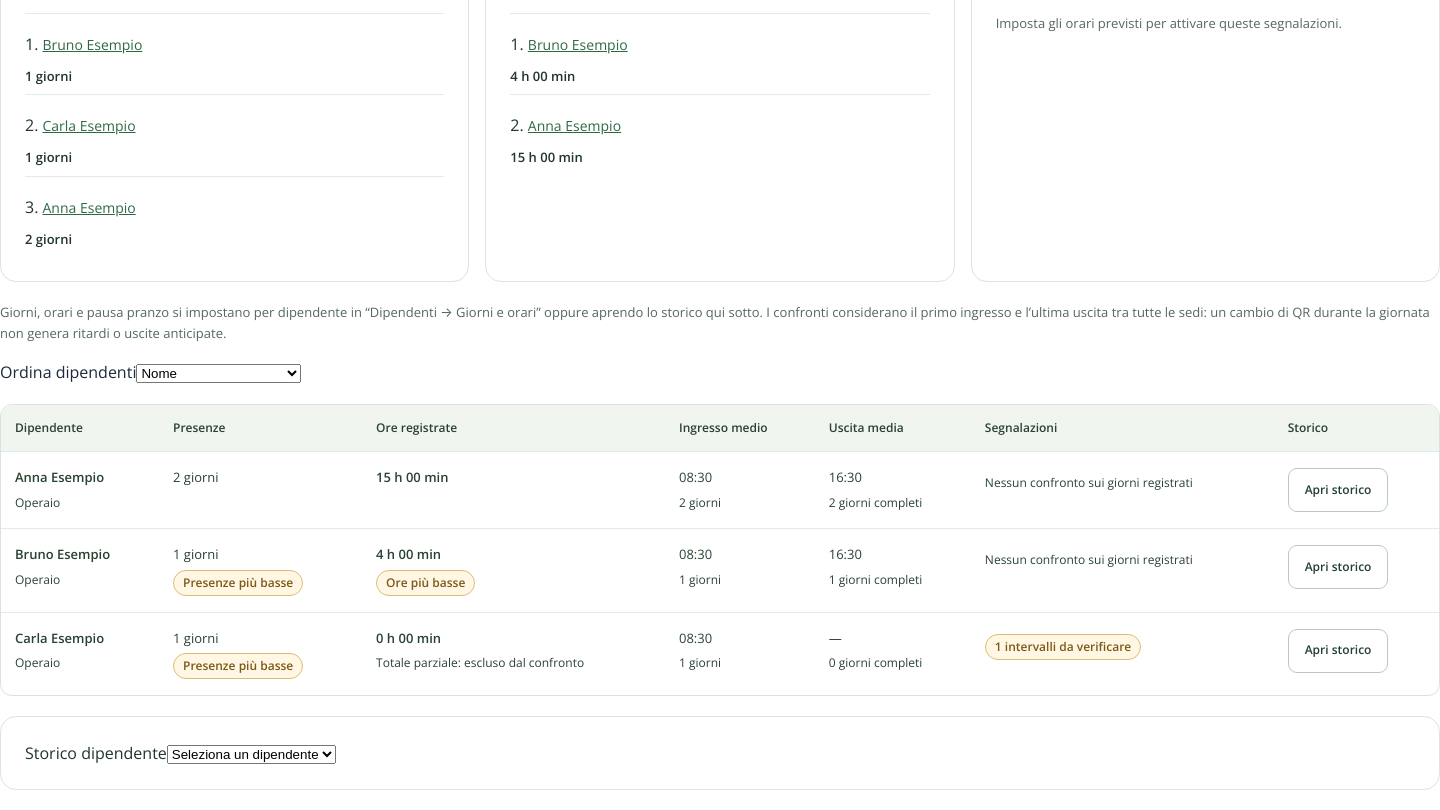
Test: opens quarterly daily history including individual punches and preserves employee selection across quarters
(page scrolled)
Click the button with aria-label "Storico di Anna Esempio".
click(1338, 490)  # box x1=1288 y1=468 x2=1388 y2=512
(page scrolled)
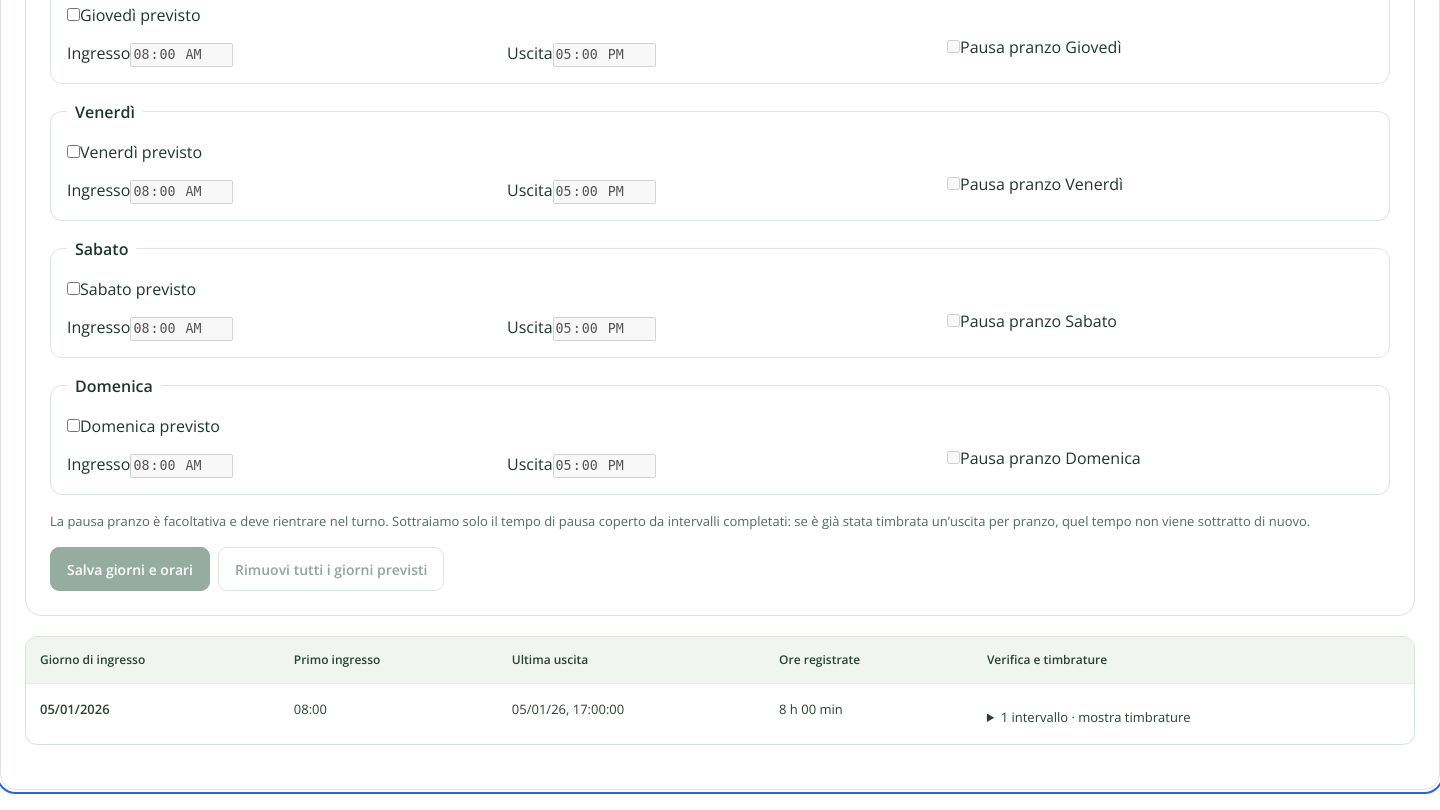
Check: the text "05/01/2026" is shown, box x1=40 y1=700 x2=110 y2=718
Click the heading "1 intervallo · mostra timbrature".
click(1096, 717)  # box x1=1001 y1=708 x2=1190 y2=726
(page scrolled)
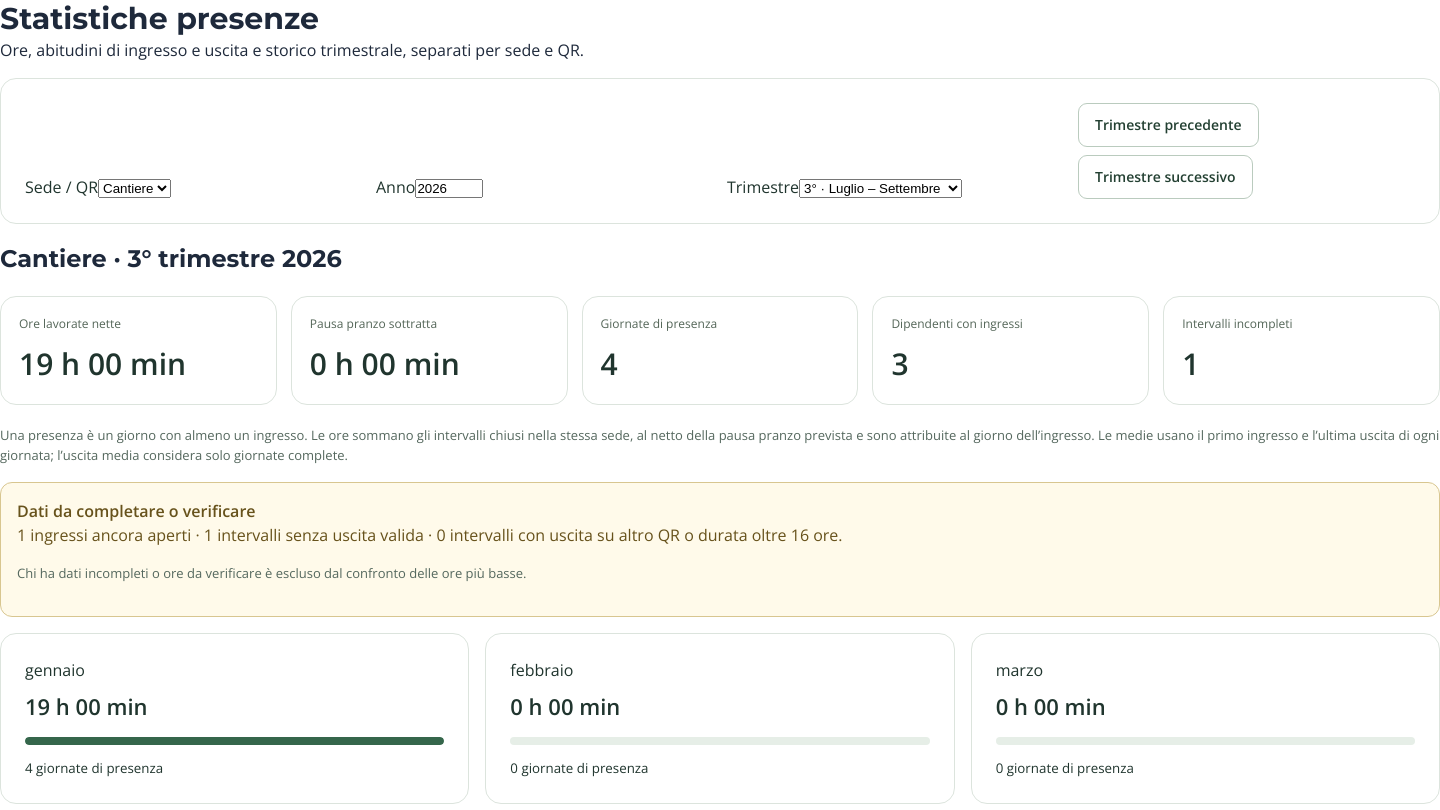
Select "2° · Aprile – Giugno" in the dropdown labelled "Trimestre" at (880, 188), box x1=799 y1=178 x2=962 y2=198
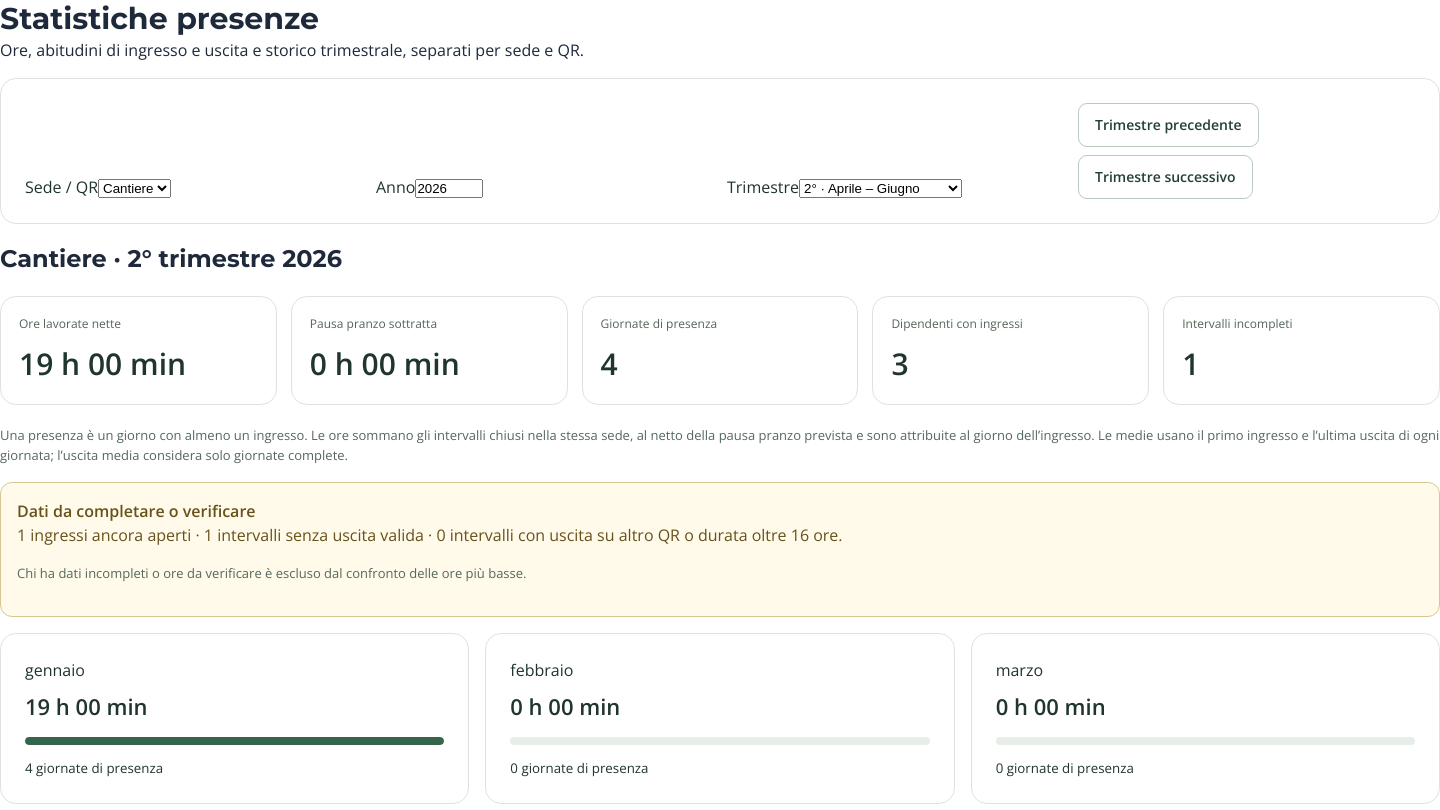
Select "Ufficio" in the dropdown labelled "Sede / QR" at (134, 188), box x1=98 y1=178 x2=171 y2=198
(page scrolled)
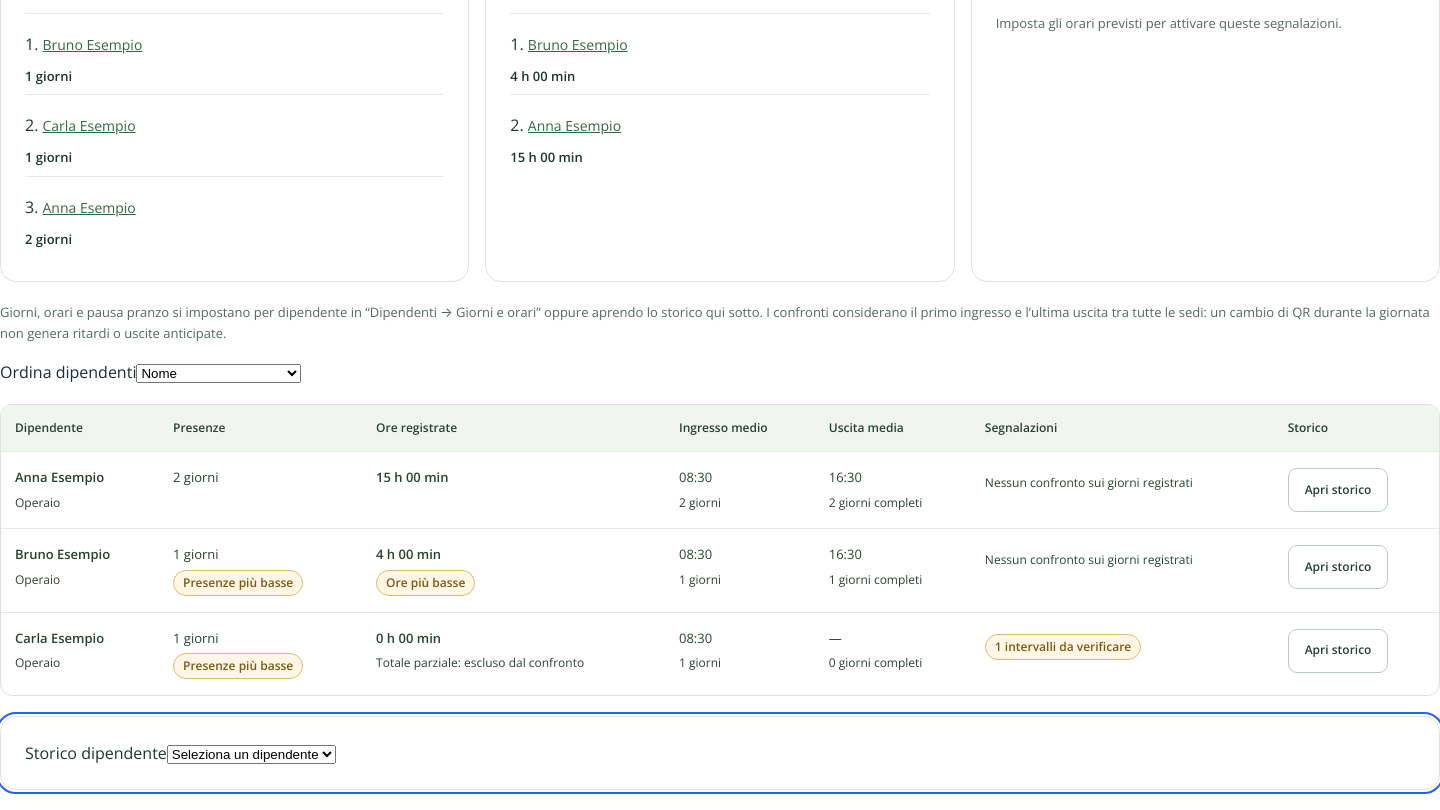
Check: the dropdown labelled "Storico dipendente" shows "Seleziona un dipendente", box x1=167 y1=745 x2=336 y2=764
